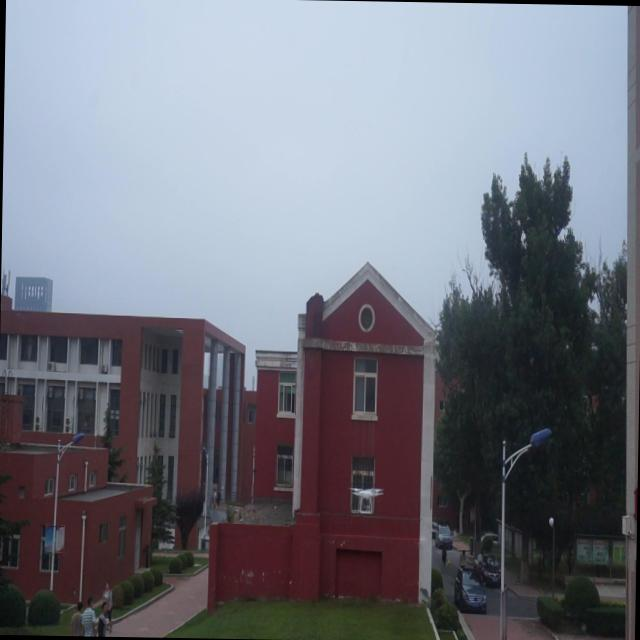drone: (348, 482, 384, 516)
